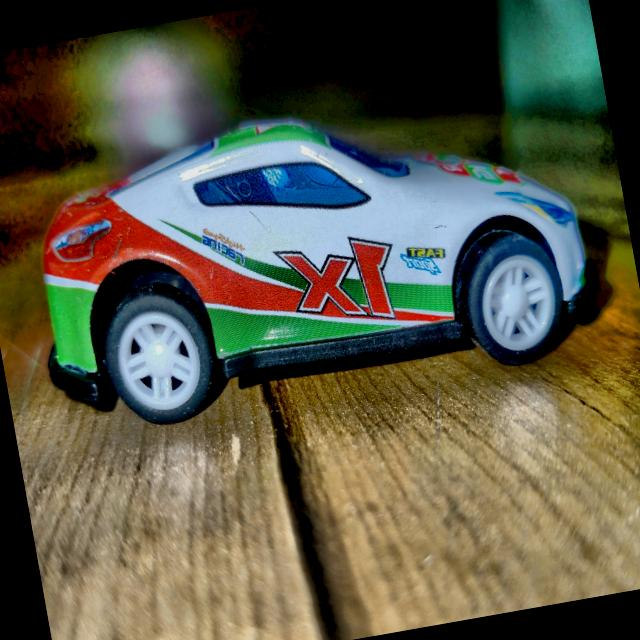Car: (14, 73, 600, 444)
